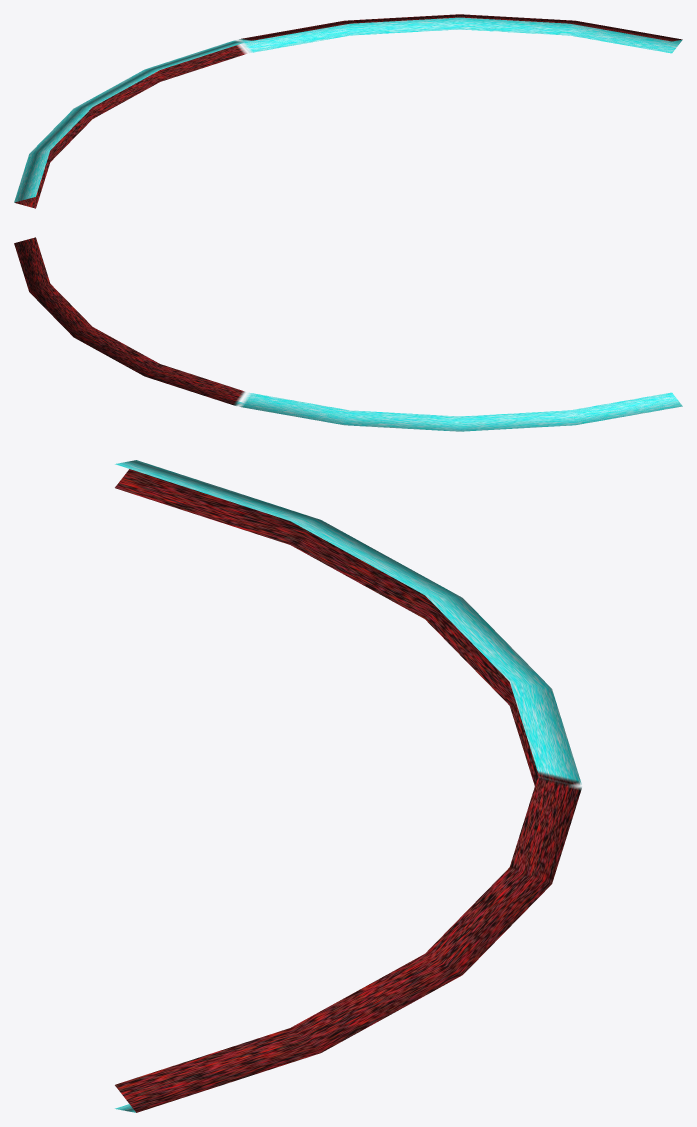
The picture shows the model from 3 angles, top to bottom: view 1: azimuth 30°, elevation 25°; view 2: azimuth 150°, elevation 25°; view 3: azimuth 270°, elevation 25°; orthographic projection. The views are drawn at different scales.
Parts seen in each view (by area): view 1: SM_BlackKnight_VisorAura_01_LOD0; view 2: SM_BlackKnight_VisorAura_01_LOD0; view 3: SM_BlackKnight_VisorAura_01_LOD0.
Part boxes in pixels (bbox=[...]): SM_BlackKnight_VisorAura_01_LOD0: bbox=[14, 14, 682, 208]; SM_BlackKnight_VisorAura_01_LOD0: bbox=[14, 237, 682, 431]; SM_BlackKnight_VisorAura_01_LOD0: bbox=[115, 460, 581, 1112].
Bounding box in the file's own units: 3.52 × 0.0602 × 1.07.
1 material, 1 textured.
